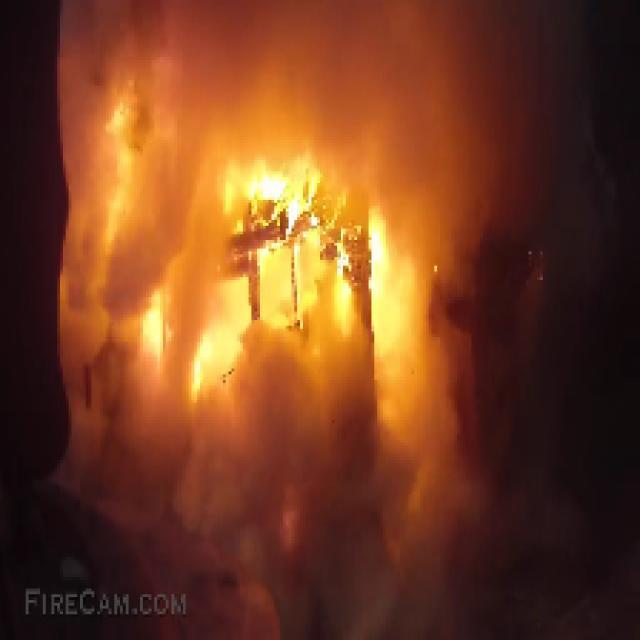Fire: (140, 168, 403, 400)
Smoke: (66, 11, 520, 640)
